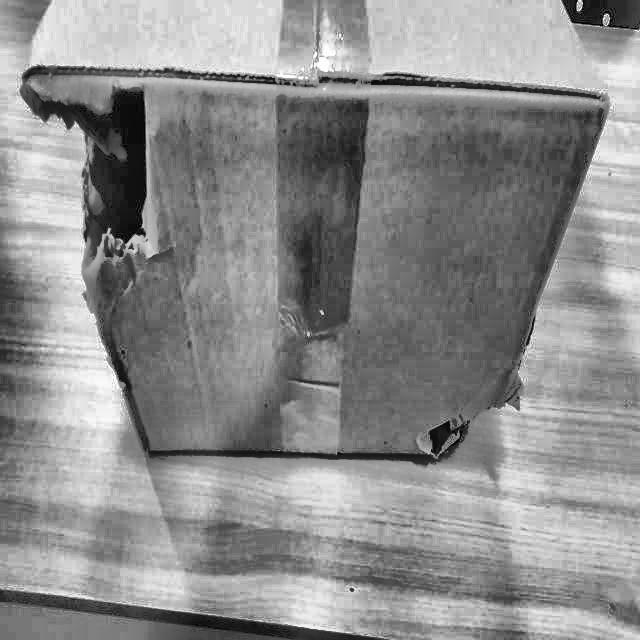box: (9, 0, 625, 476)
hole: (28, 65, 156, 269), (418, 406, 469, 460)
